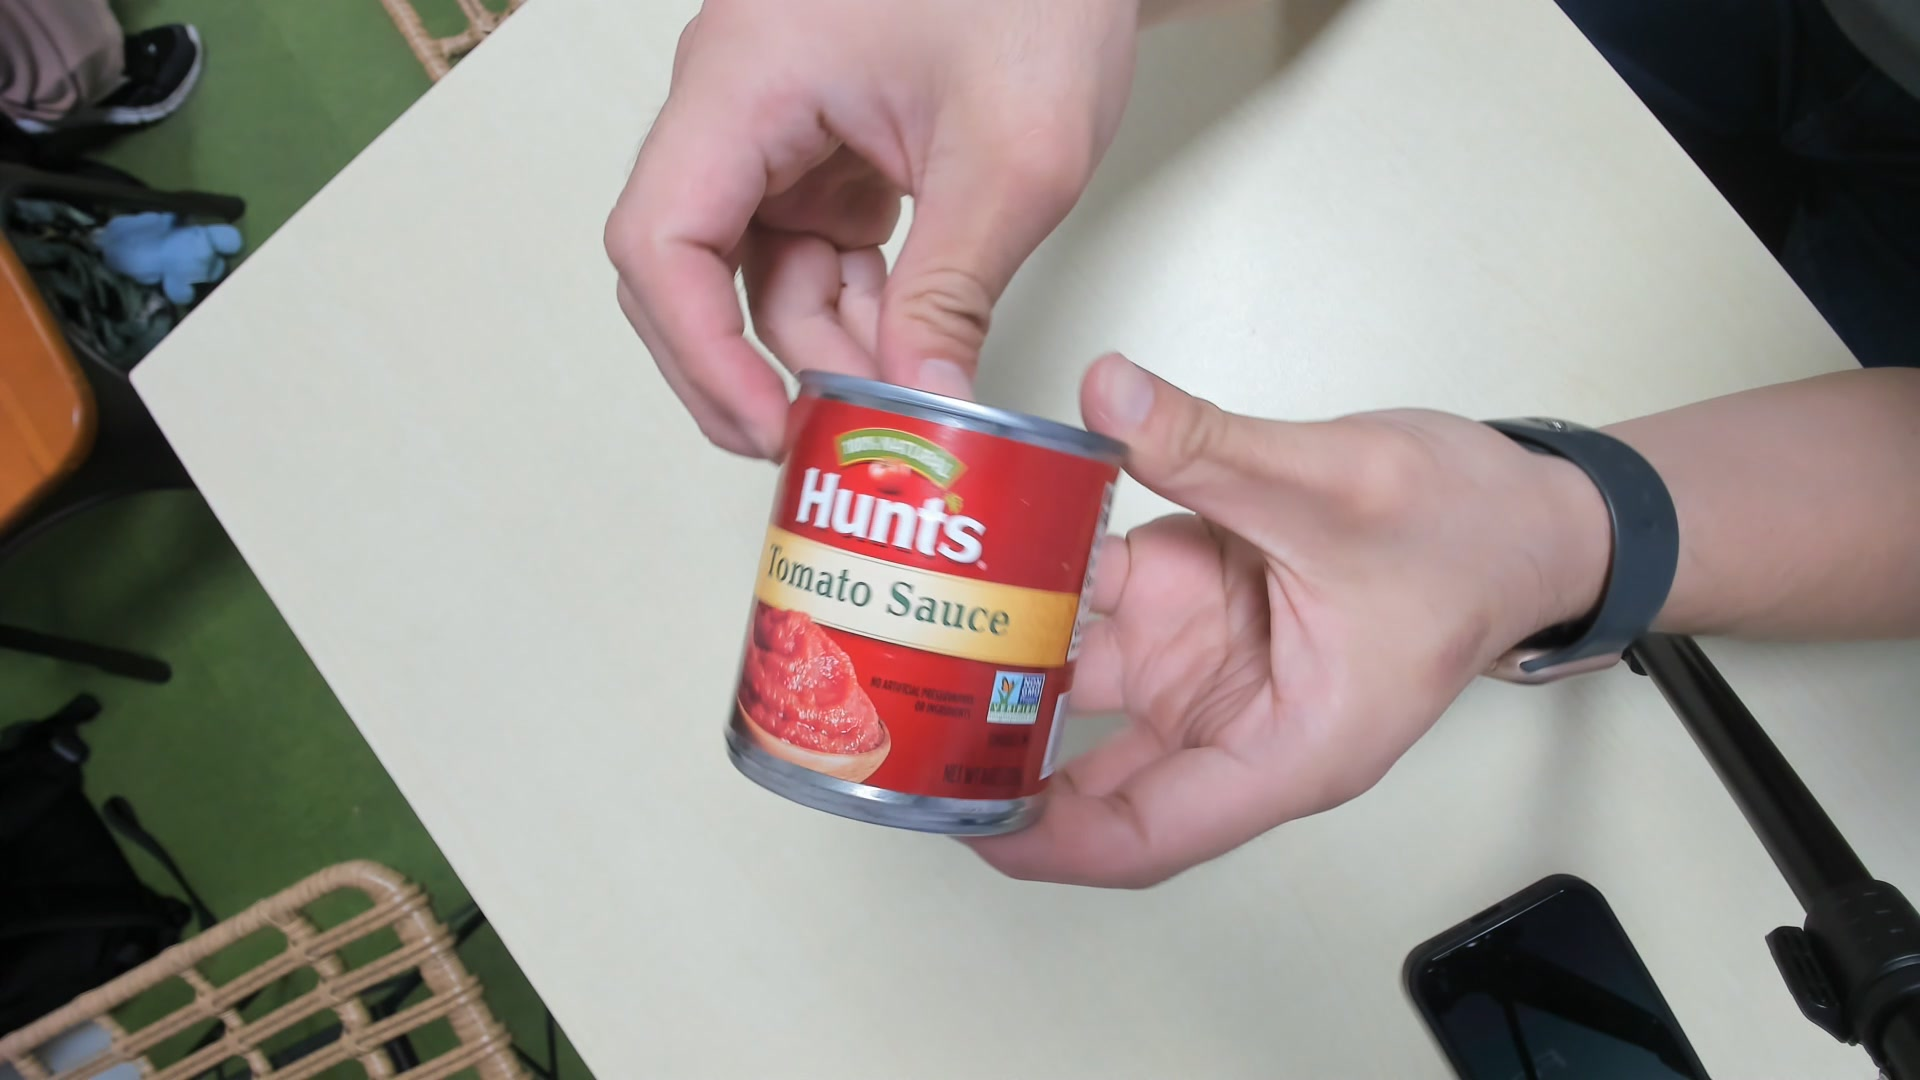OtherSauceDressing_200-299g_NonHalal_NonHealthy: (715, 365, 1133, 847)
